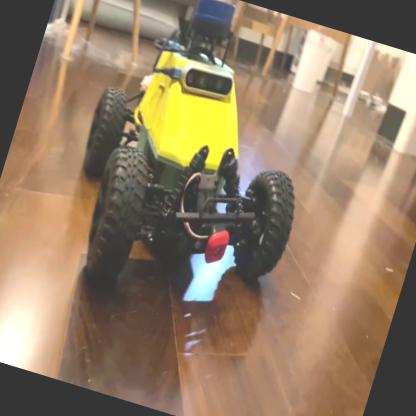mushr_car: (46, 0, 351, 333)
